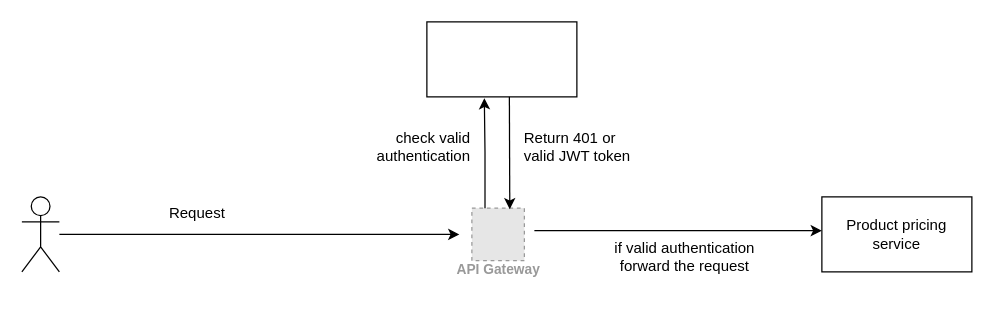
This 994x320 diagram has some shape labels left out. Grey dashed boxes stand in for pictures. Each missing label, with the box of its shape:
Actor: (21, 196, 59, 272)
User management service: (426, 21, 577, 97)
